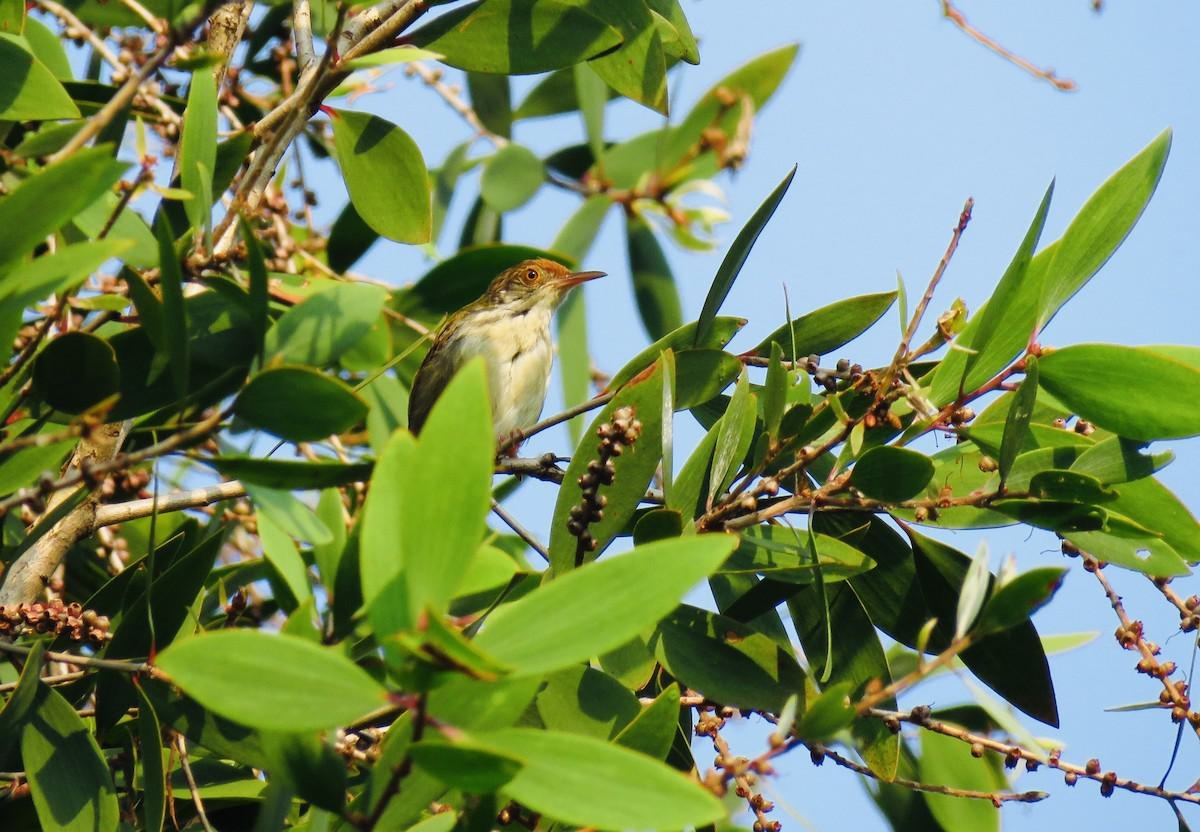tailorbird: (378, 228, 610, 490)
